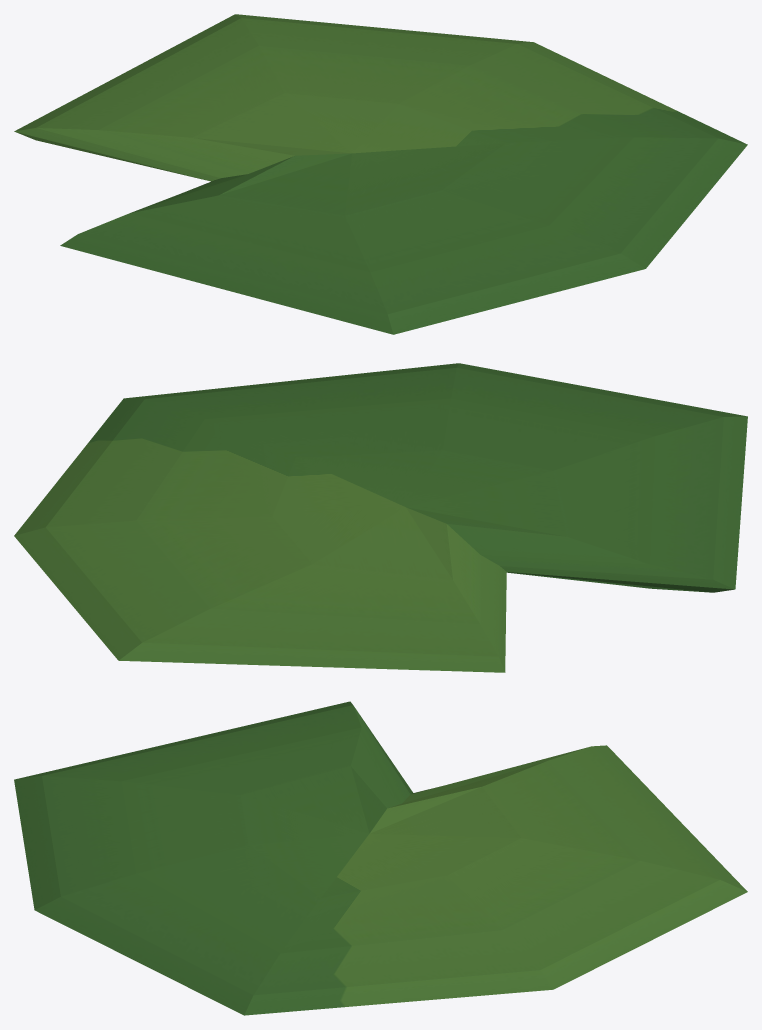
Rendered from lilypad1.fbx.
The picture shows the model from 3 angles, top to bottom: view 1: azimuth 30°, elevation 25°; view 2: azimuth 150°, elevation 25°; view 3: azimuth 270°, elevation 25°; orthographic projection. The views are drawn at different scales.
Parts seen in each view (by area): view 1: lilypads.001; view 2: lilypads.001; view 3: lilypads.001.
Boxes of the visible parts, bbox=[...] form: lilypads.001: bbox=[14, 14, 747, 334]; lilypads.001: bbox=[14, 363, 747, 672]; lilypads.001: bbox=[14, 701, 747, 1015].
Bounding box in the file's own units: 1372 × 95.87 × 1414.
